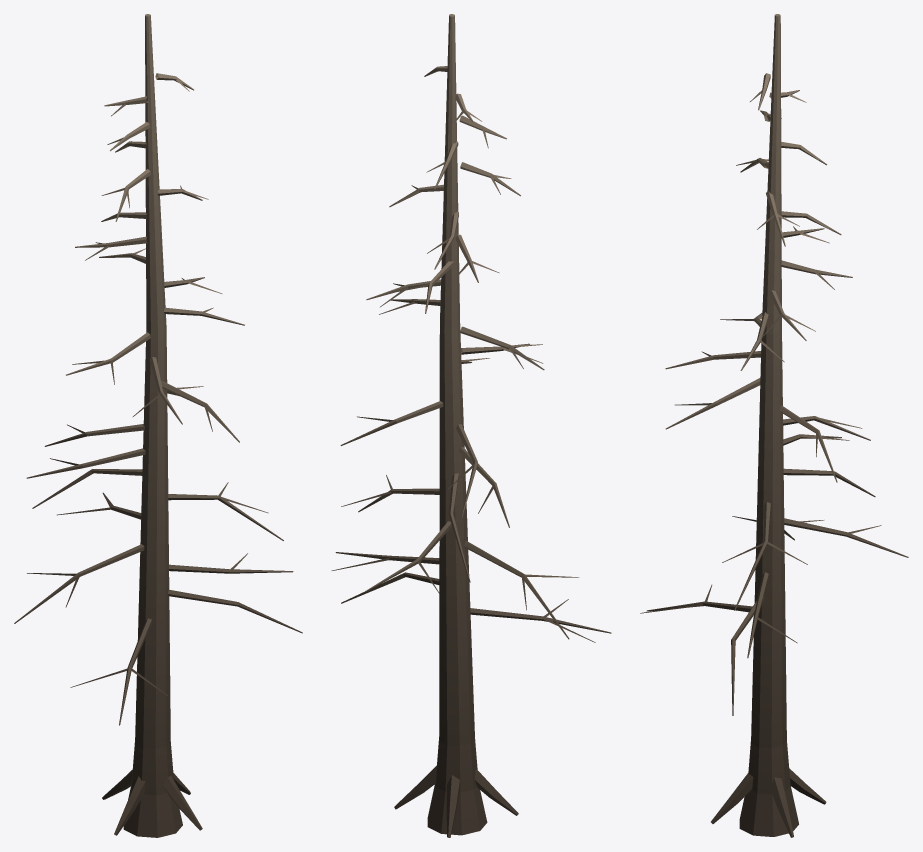
The model's file is Dead_Spruce.fbx.
3 renders of one model, left to right at view 1: azimuth 30°, elevation 25°; view 2: azimuth 150°, elevation 25°; view 3: azimuth 270°, elevation 25°, orthographic.
Visible parts, largest first — view 1: Dead_Spruce_LOD0; view 2: Dead_Spruce_LOD0; view 3: Dead_Spruce_LOD0.
Part boxes in pixels (x1,y1,x2,y2): Dead_Spruce_LOD0: [14, 14, 302, 837]; Dead_Spruce_LOD0: [331, 14, 611, 837]; Dead_Spruce_LOD0: [640, 14, 908, 837].
Size of what is drawn, in the model's own units: 4.85 by 14.5 by 4.36.
Materials: 1 (1 with a texture image).
